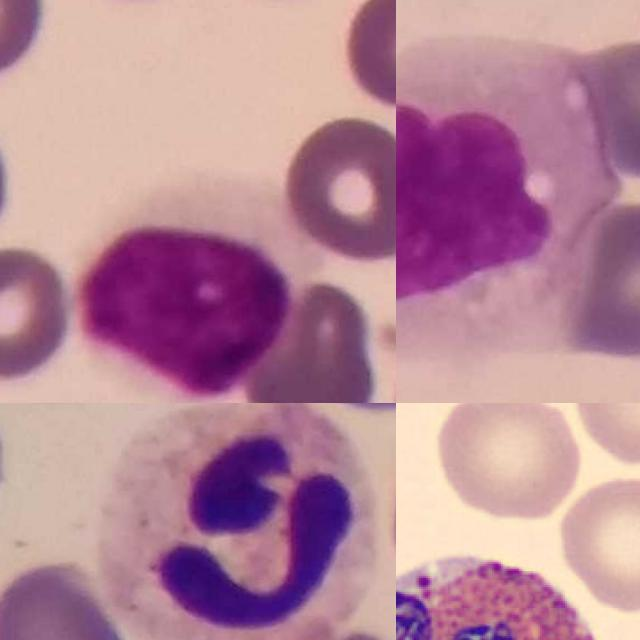Eosinophil: (396, 530, 623, 640)
Lymphocyte: (76, 172, 312, 403)
Monocyte: (396, 28, 618, 371)
Neutrophil: (101, 403, 383, 640)
RBC: (429, 403, 586, 521), (554, 472, 640, 613), (570, 403, 640, 470)
